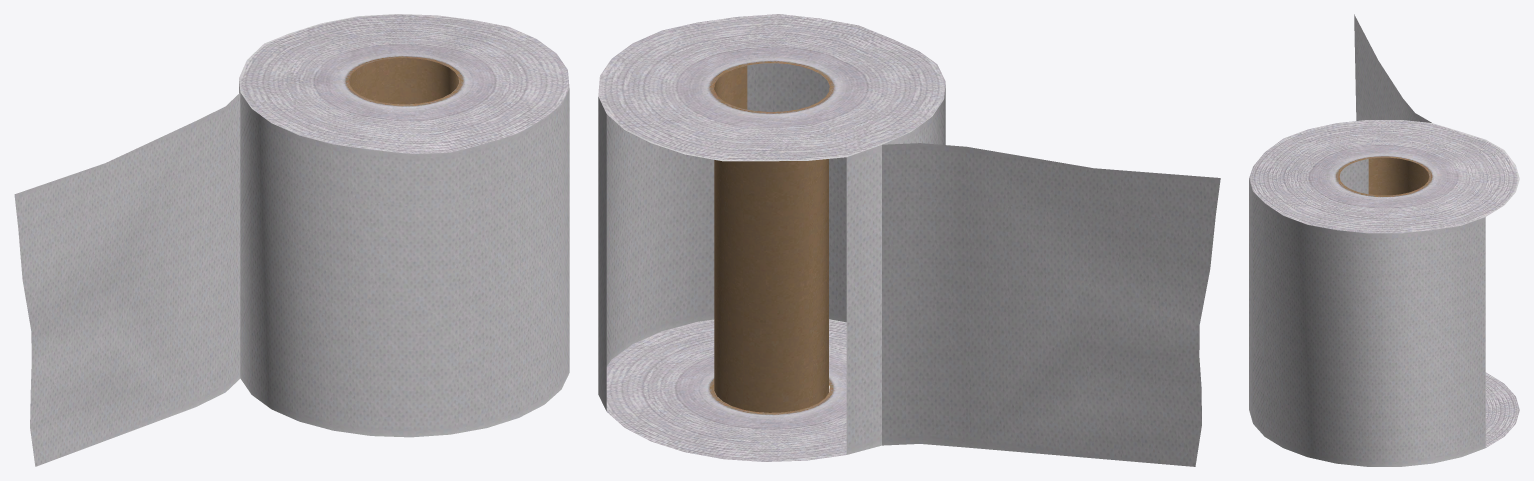
Rendered from Toilet Paper.dae.
The picture shows the model from 3 angles, left to right: view 1: azimuth 30°, elevation 25°; view 2: azimuth 150°, elevation 25°; view 3: azimuth 270°, elevation 25°; orthographic projection. The views are drawn at different scales.
Parts seen in each view (by area): view 1: Toilet Paper; view 2: Toilet Paper; view 3: Toilet Paper.
Part boxes in pixels (x1,y1,x2,y2): Toilet Paper: (14,14,569,466); Toilet Paper: (598,14,1220,466); Toilet Paper: (1249,14,1519,466).
Bounding box in the file's own units: 8.54 × 4.45 × 4.24.
1 material, 1 textured.
